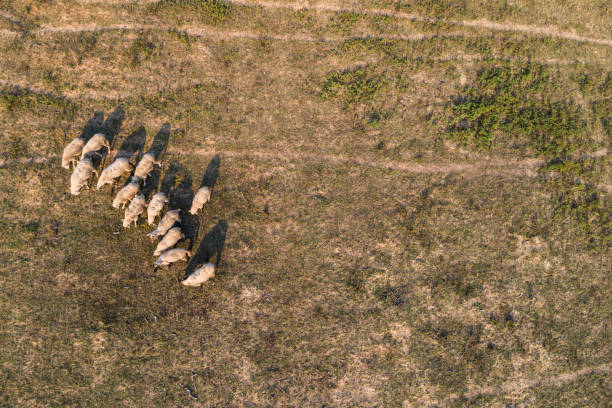sheep: (180, 261, 220, 293), (101, 156, 131, 192), (69, 158, 96, 198), (83, 133, 117, 163), (59, 137, 88, 170), (145, 192, 173, 226), (154, 226, 185, 256), (110, 180, 141, 210), (156, 207, 181, 243), (131, 153, 157, 184), (119, 195, 143, 228), (153, 247, 188, 268), (192, 186, 212, 215)
